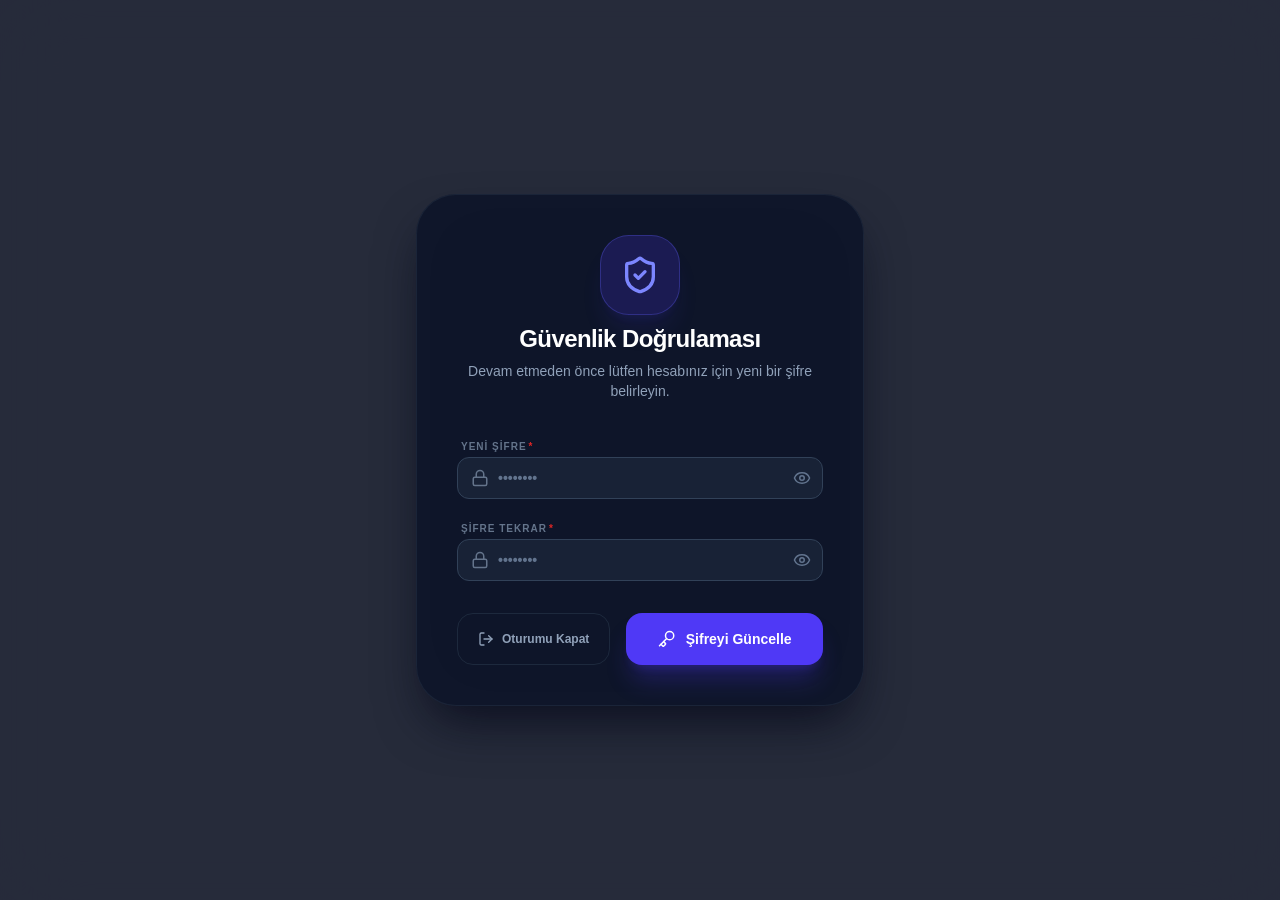
Test: PasswordChangeModal › göndermeden önce eşleşmeyen şifreyi engeller
Type "Password1!" into the password field labelled "Yeni Şifre*" at (640, 478), box [457,457,823,499]
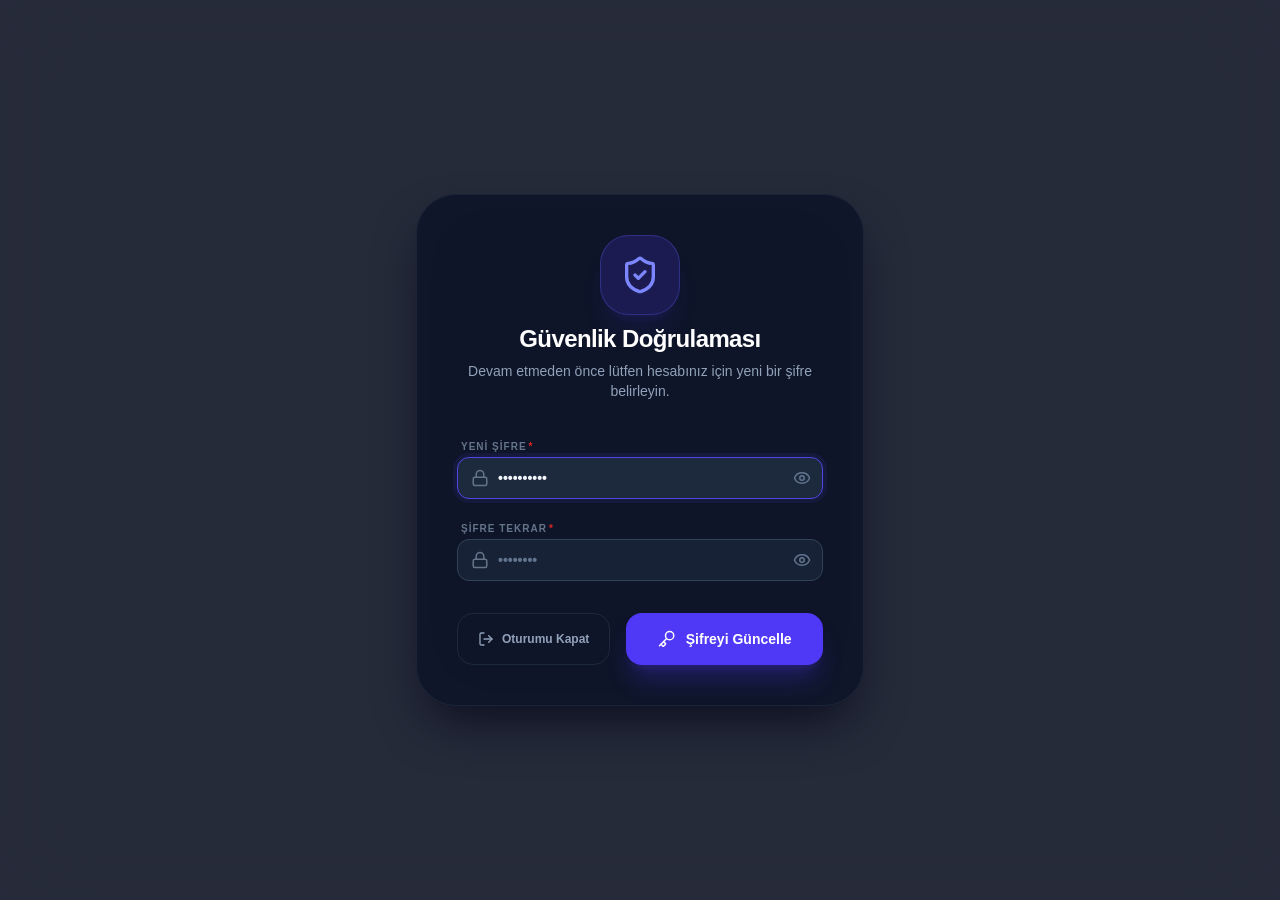
Type "Password2!" into the password field labelled "Şifre Tekrar*" at (640, 560), box [457,539,823,581]
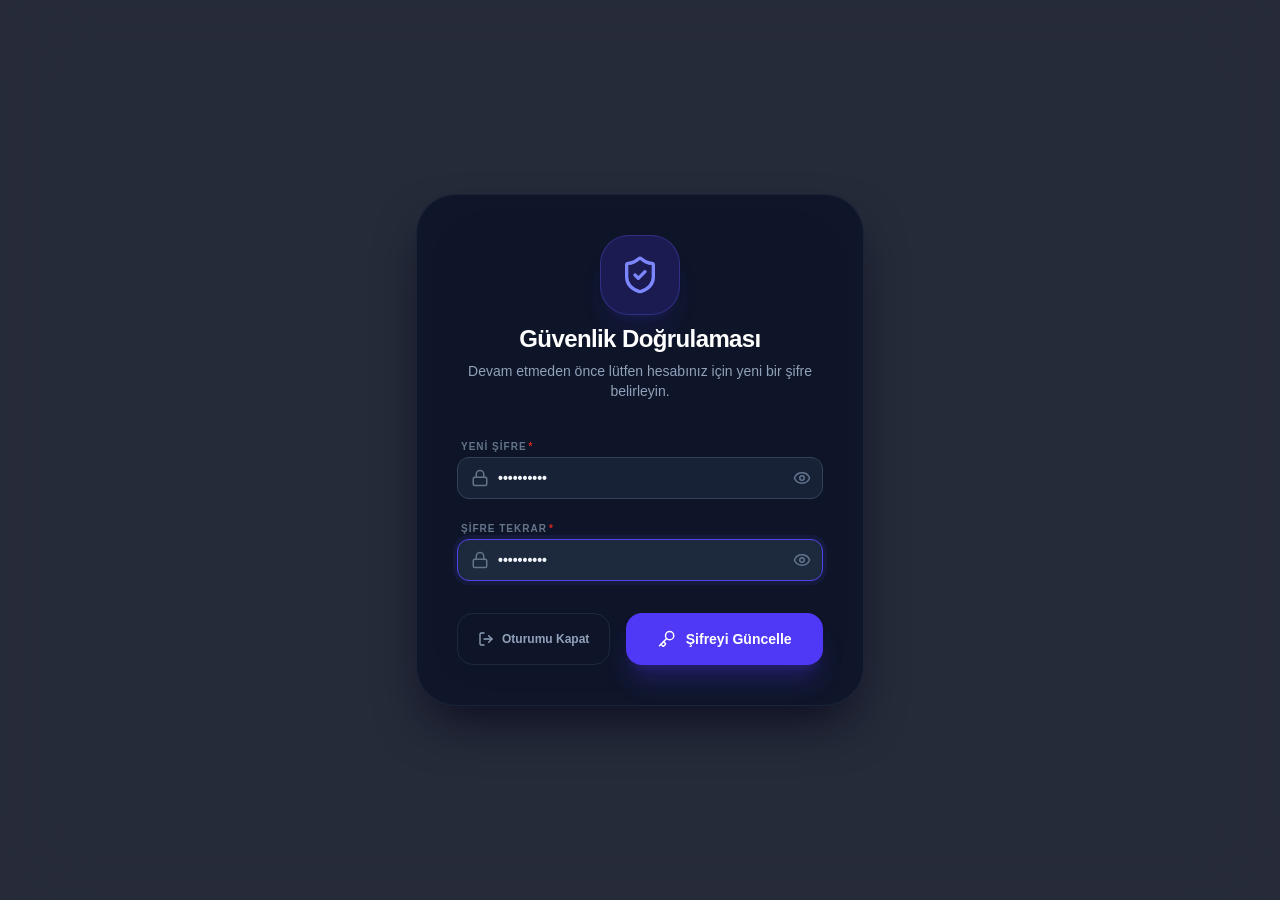
Click the button "Şifreyi Güncelle" at (725, 639), box [626,613,823,665]
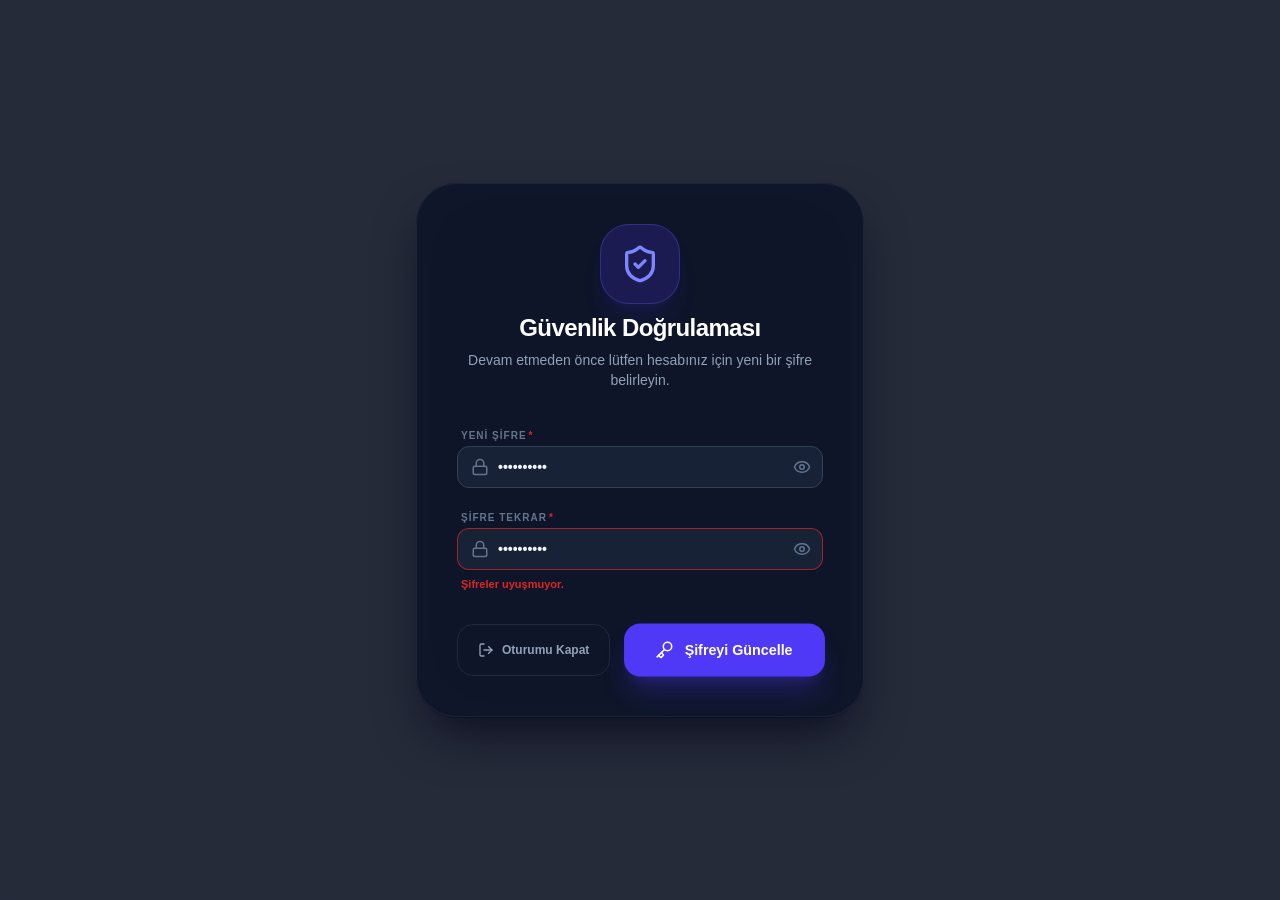
expect the text "Şifreler uyuşmuyor." is shown: met, box [461,578,564,590]
